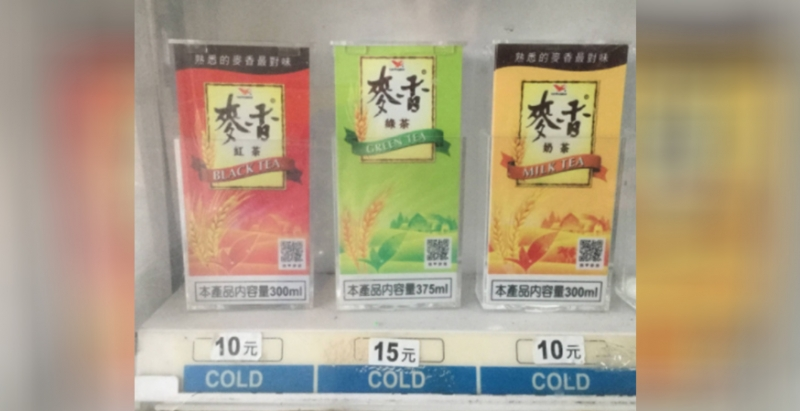milk tea: (485, 40, 627, 284)
